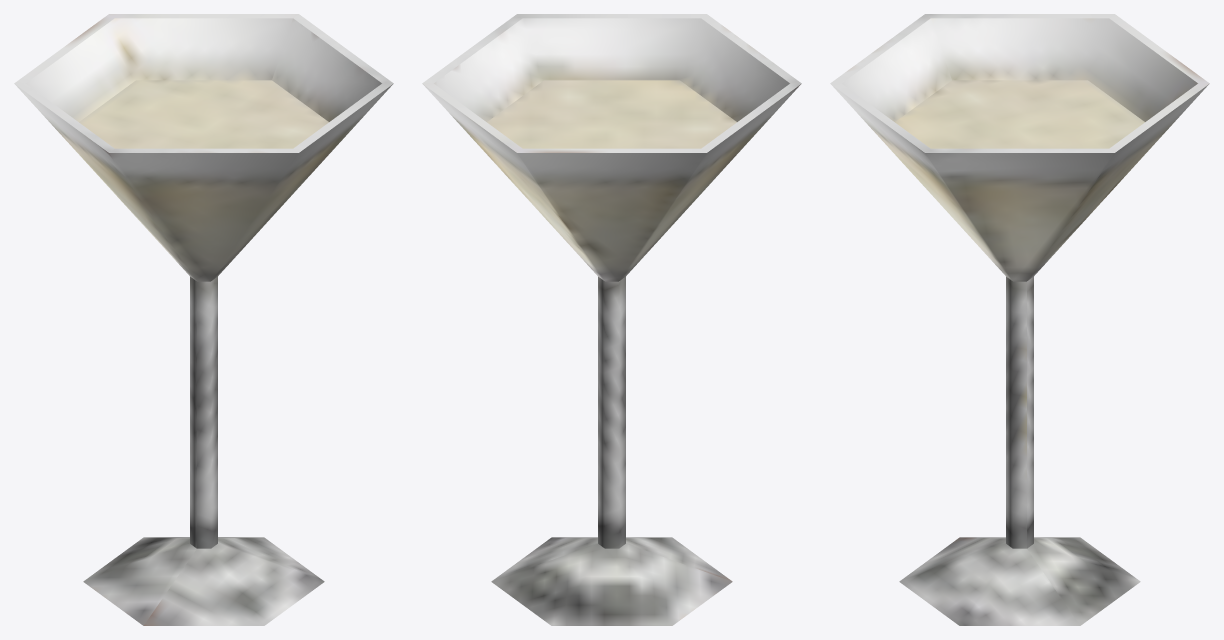
Rendered from DrinkV12.fbx.
The picture shows the model from 3 angles, left to right: view 1: azimuth 30°, elevation 25°; view 2: azimuth 150°, elevation 25°; view 3: azimuth 270°, elevation 25°; orthographic projection.
Parts seen in each view (by area): view 1: Cocktails.012; view 2: Cocktails.012; view 3: Cocktails.012.
Boxes of the visible parts, x1=… form: Cocktails.012: x1=14, y1=14, x2=393, y2=625; Cocktails.012: x1=422, y1=14, x2=801, y2=625; Cocktails.012: x1=830, y1=14, x2=1209, y2=625.
Size of the model in its own units: 0.1587 by 0.2652 by 0.1832.
